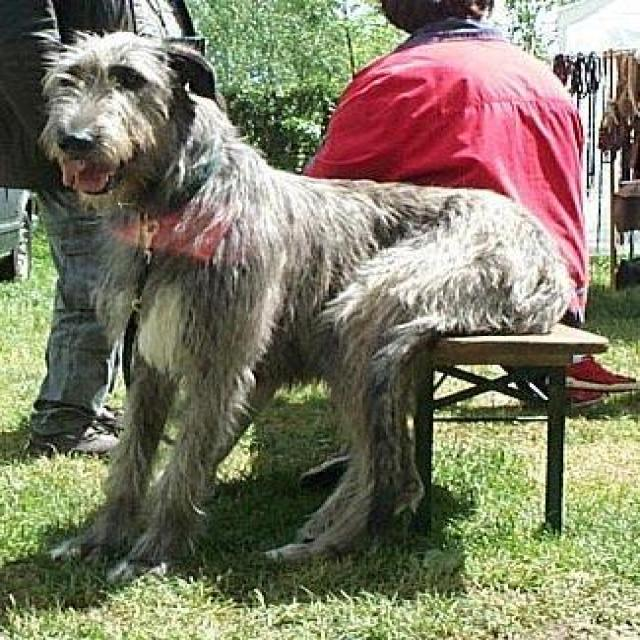irish_wolfhound: (32, 19, 575, 587)
